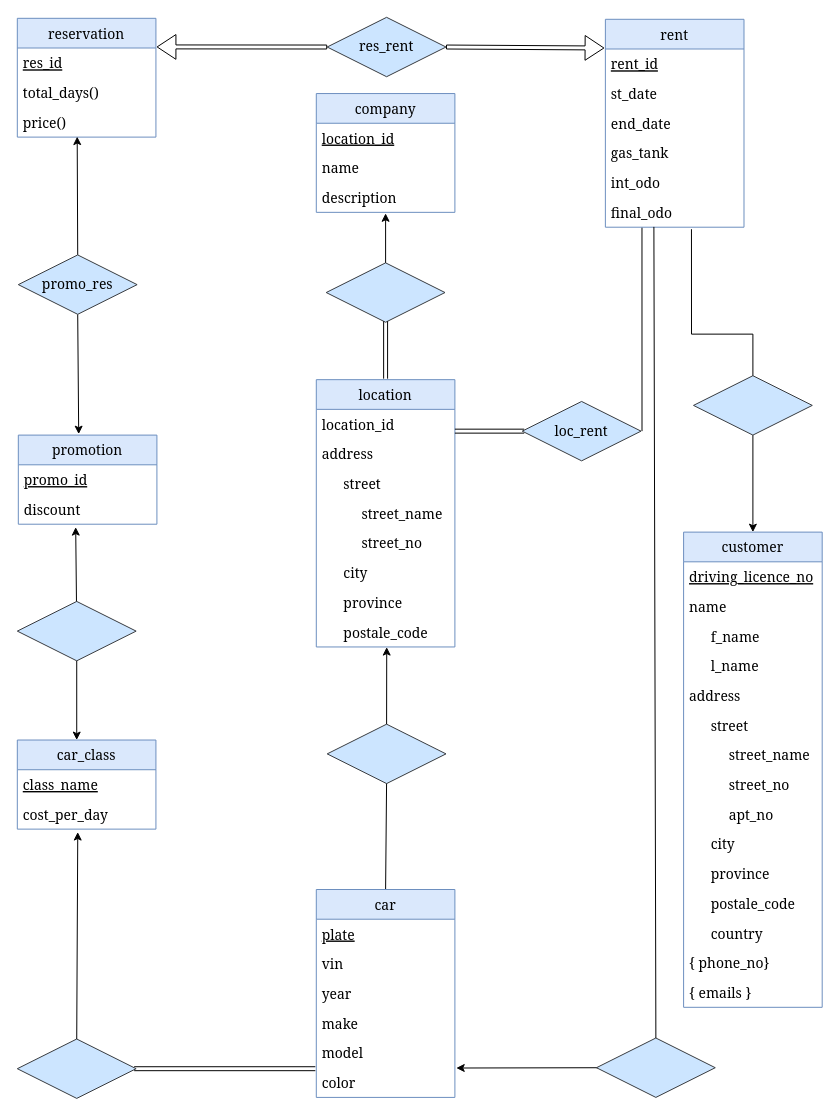
Image size: 840x1116. Some labels were removed from this diagram. The shapes that lost their labels are listed below. From the top down, each one's centre as x and y in pixels, then its label:
point (385, 292): location_comp
point (752, 405): pays
point (76, 630): promo_class
point (386, 753): car_location
point (76, 1068): belongs to
point (655, 1067): car_rent
